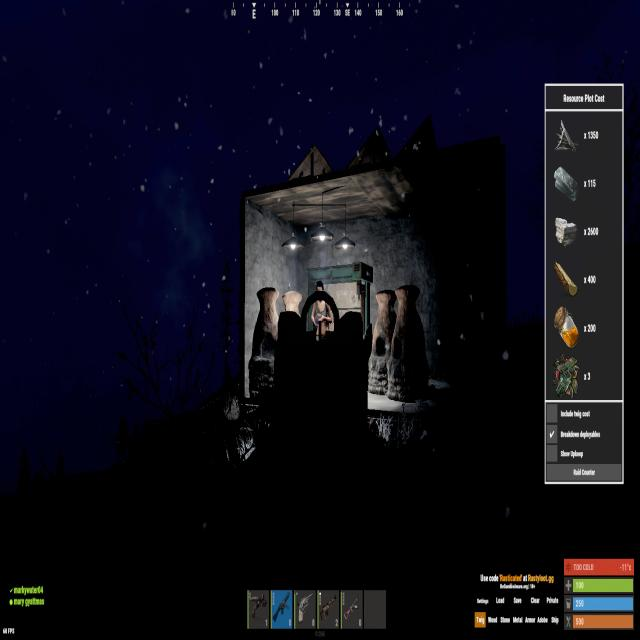Player: (311, 280, 333, 340)
